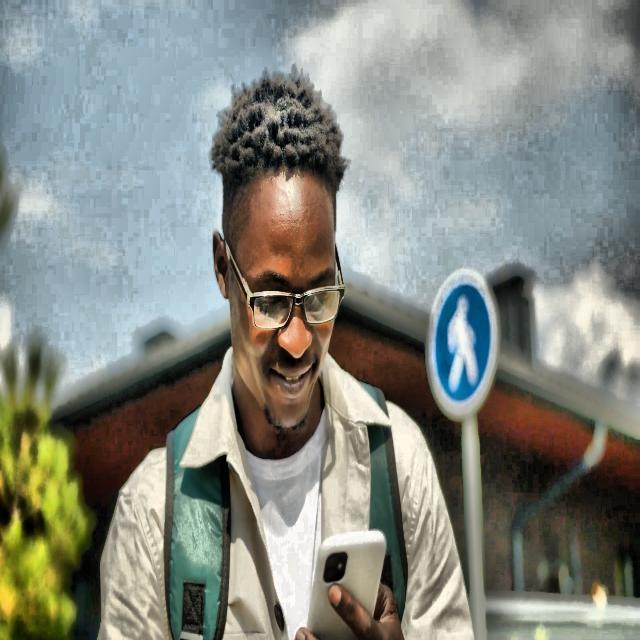Phone: (305, 526, 387, 640)
